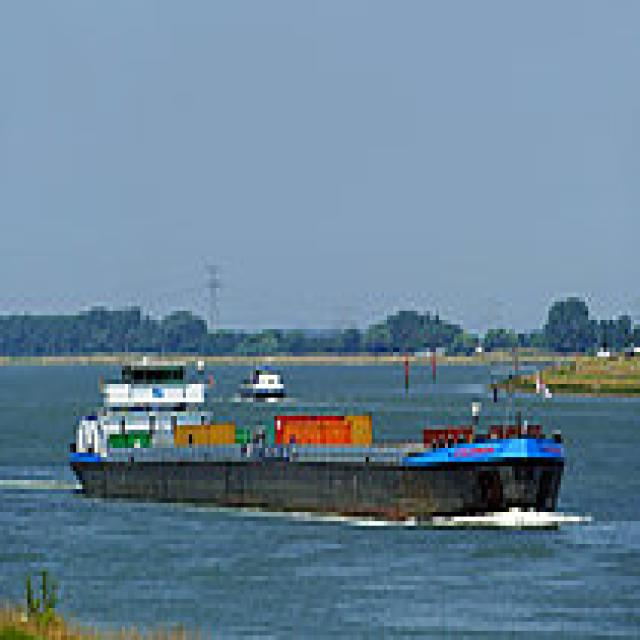Cargo: (58, 352, 567, 521)
